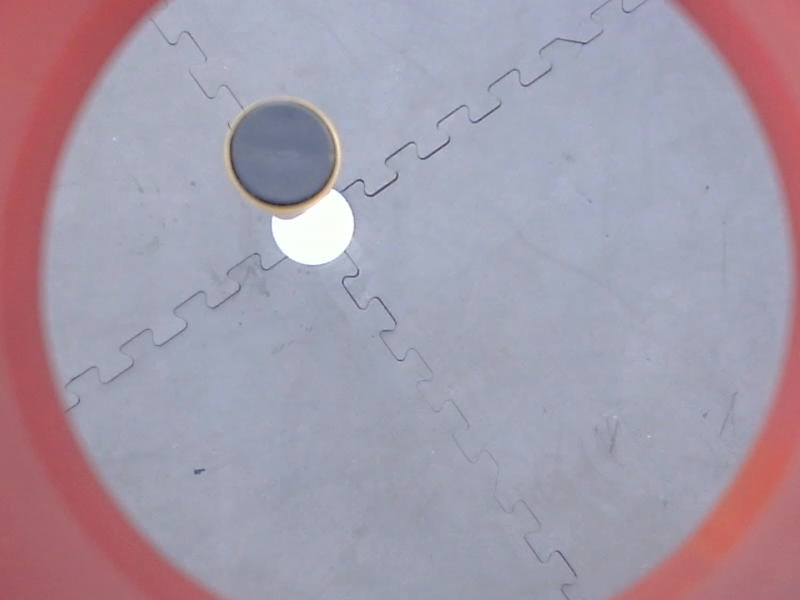tip: (223, 93, 346, 216)
